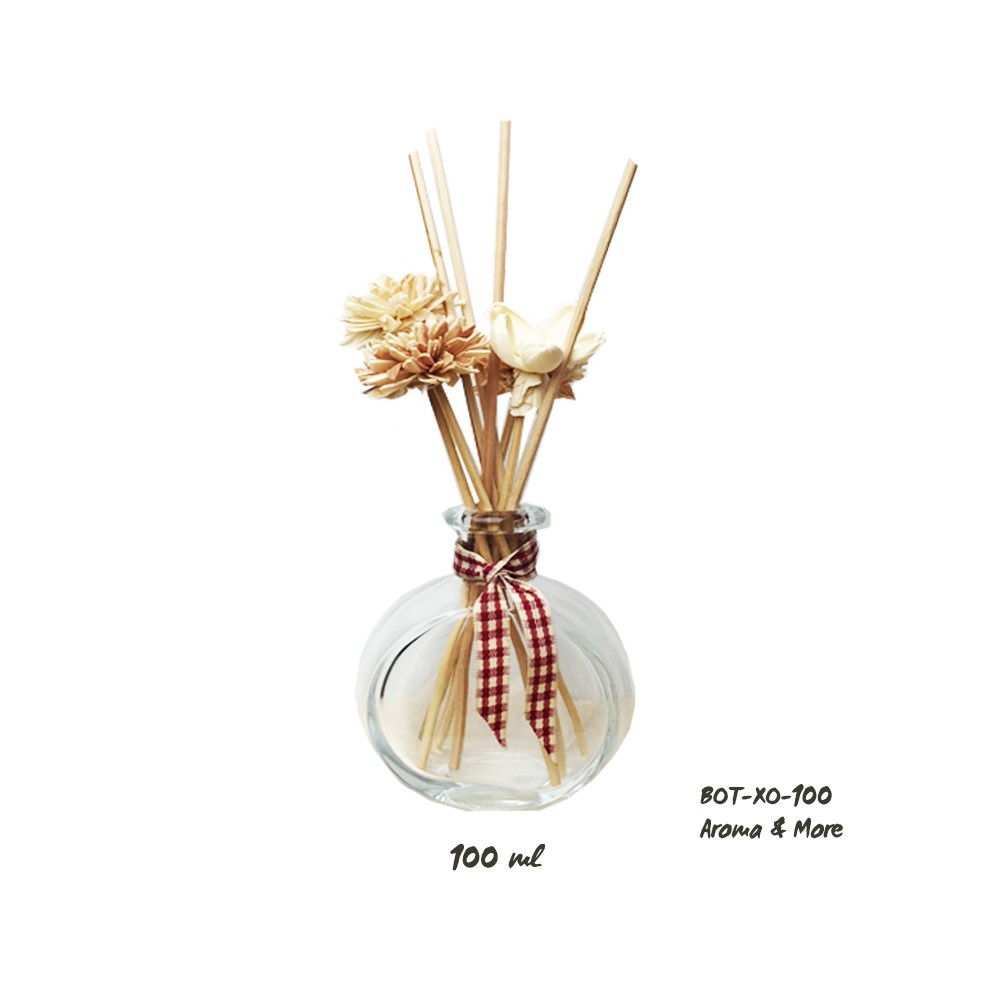glass_bottle: (344, 495, 643, 822)
